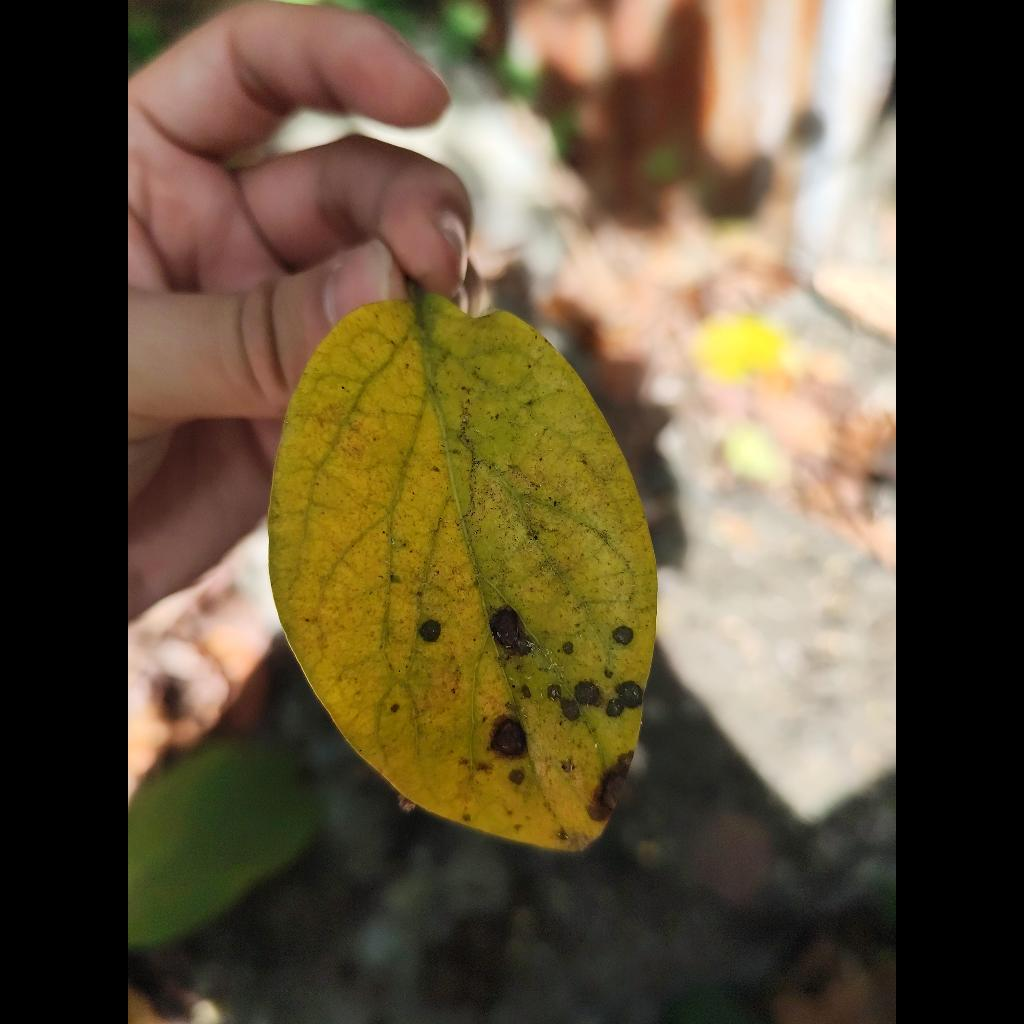nutrient_deficiency: (269, 296, 656, 850)
